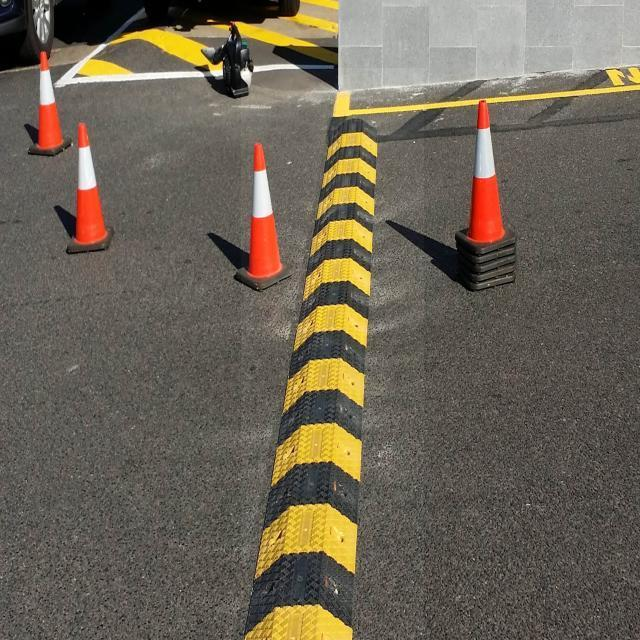Marked Bump: (284, 120, 368, 640)
